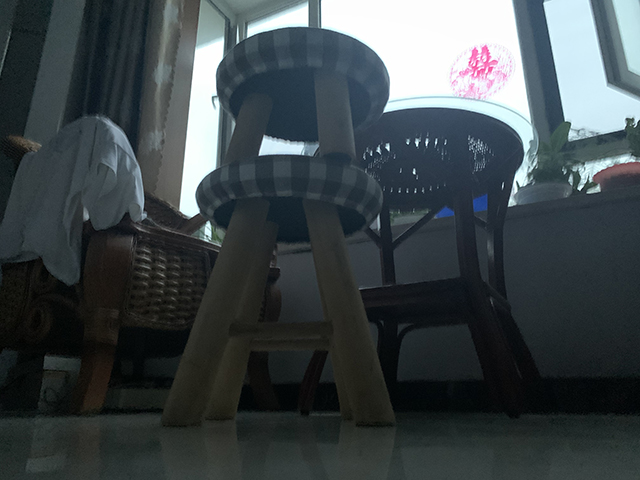stool: (1, 113, 284, 418), (161, 153, 398, 430)
table: (298, 93, 552, 420)
